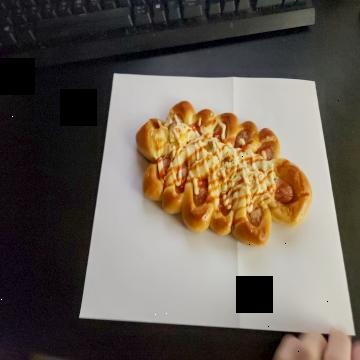pizza_bread: (137, 100, 312, 246)
